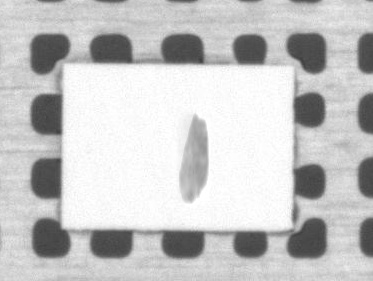DIE_INK: (176, 115, 209, 202)
